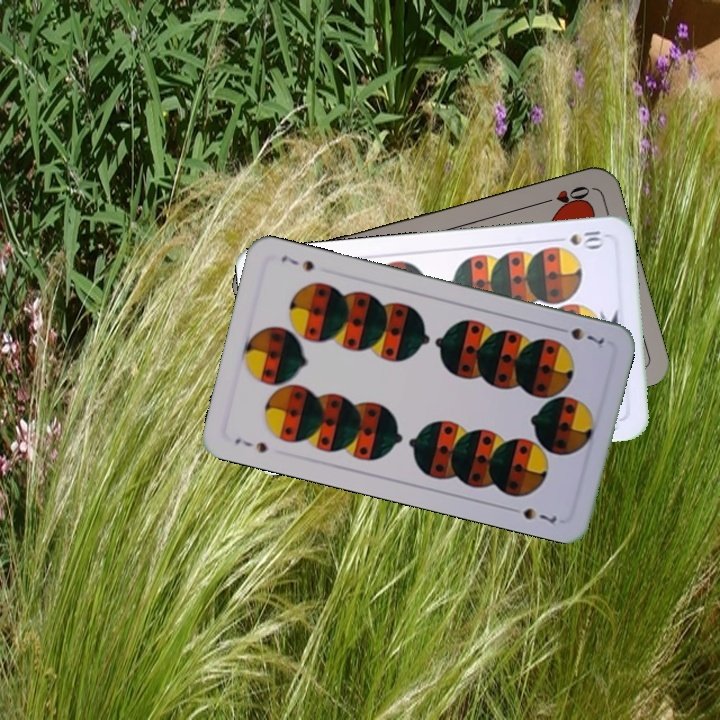HO: (535, 182, 593, 209)
S10: (549, 226, 608, 250)
S7: (552, 323, 607, 347), (231, 434, 271, 456)
